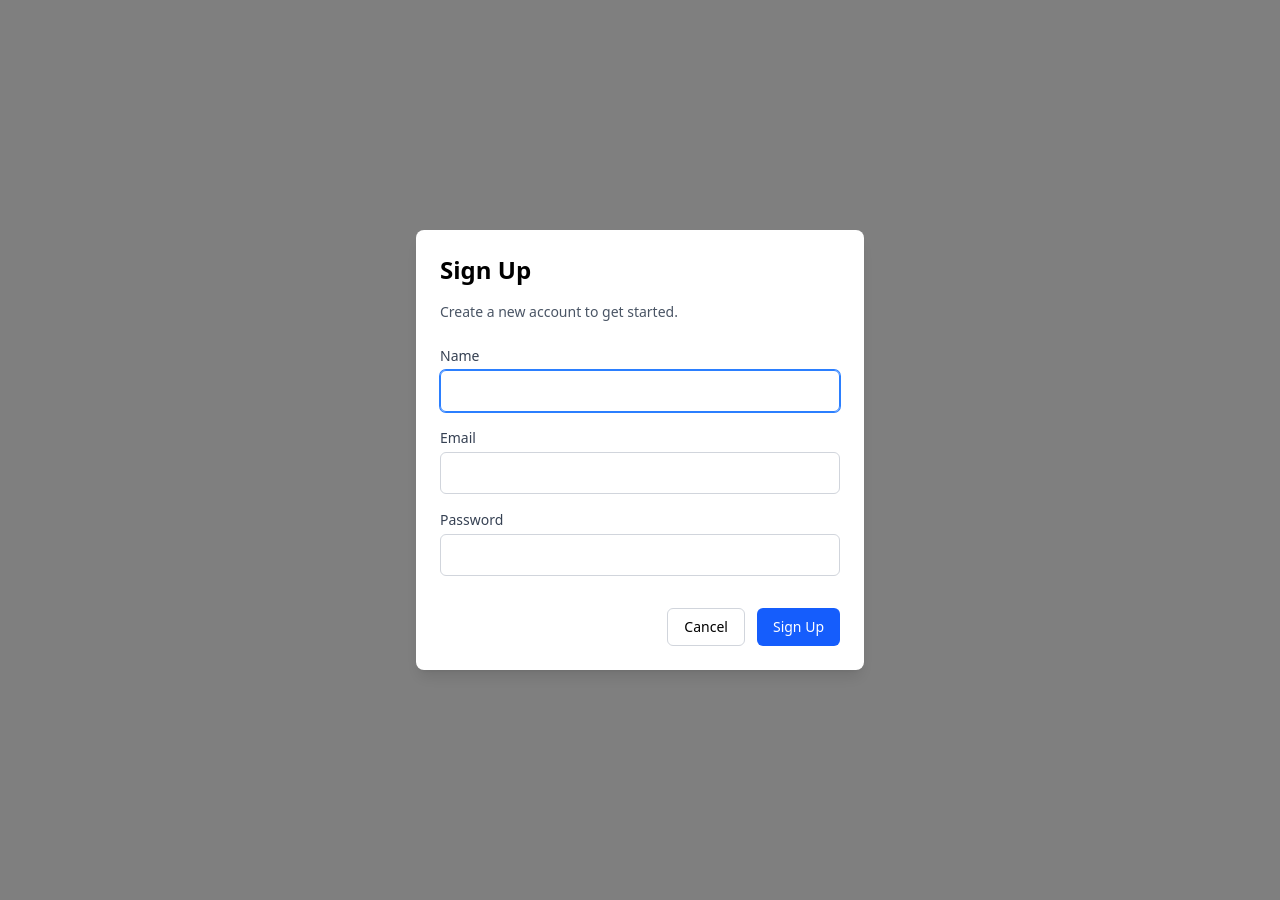
Test: SignupDialog › validates empty email
Type "John Doe" into the field labelled "Name" at (640, 391), box [440,370,840,412]
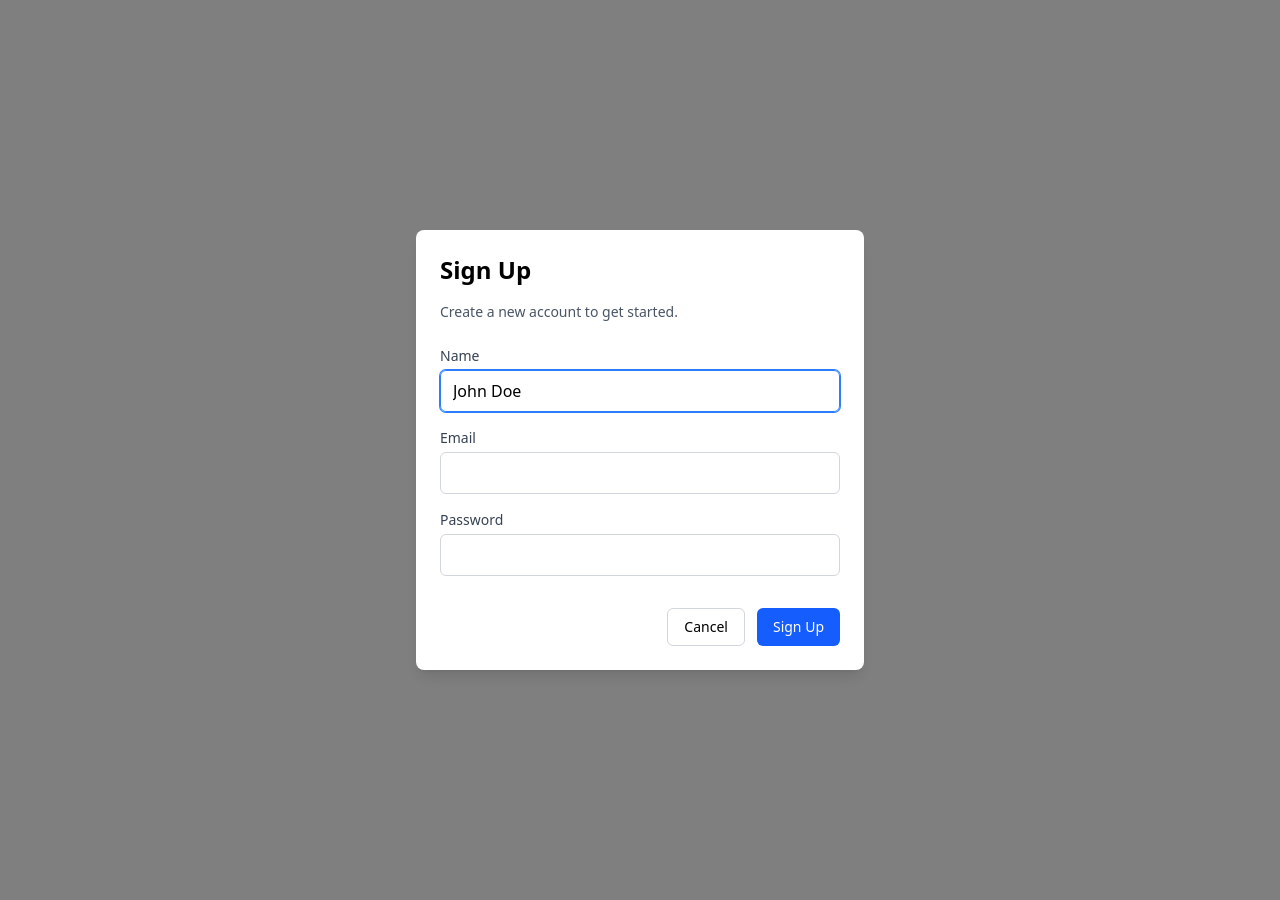
Click the button "Sign Up" at (798, 627), box [757,608,840,646]
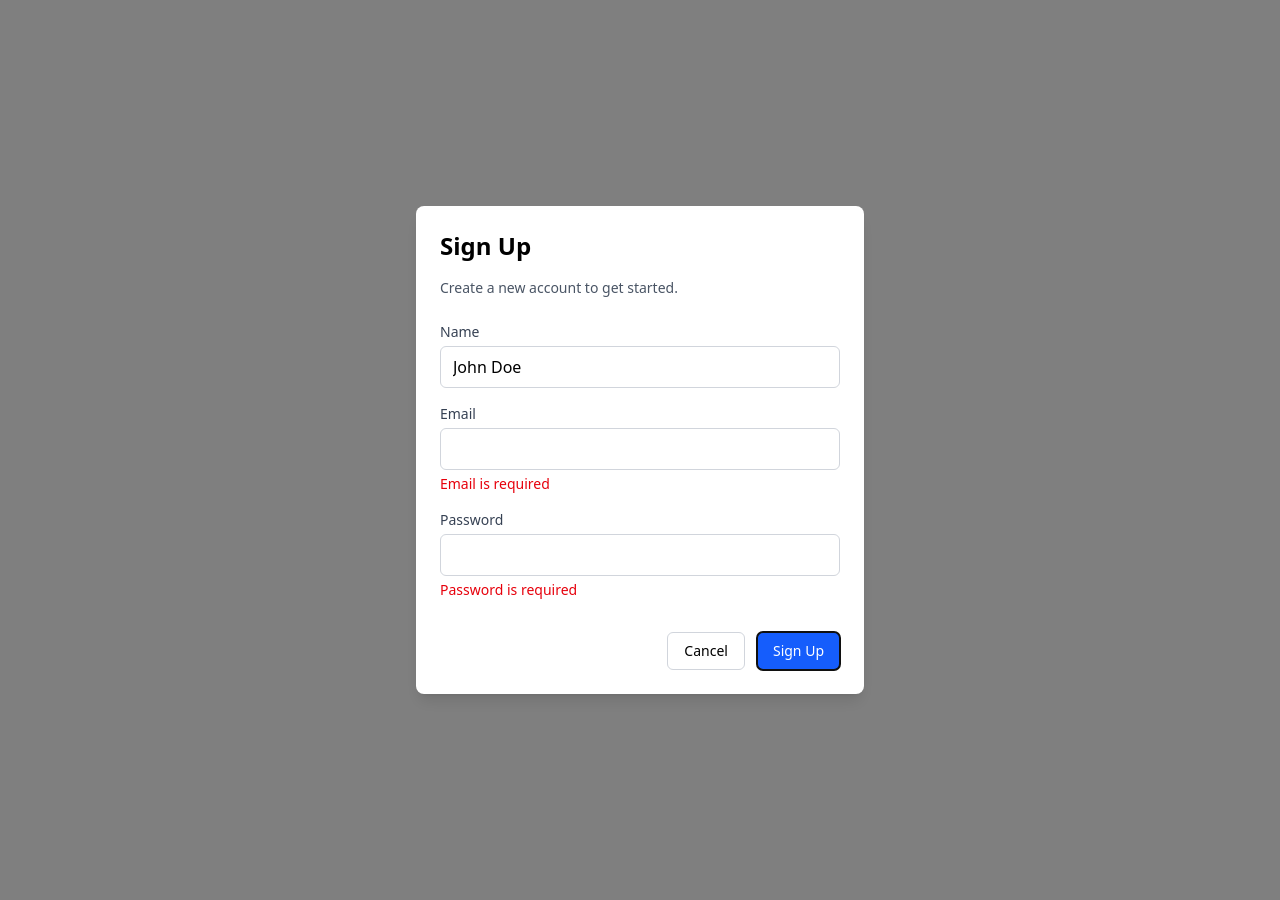
Expected: the text "Email is required" is shown, [440,474,550,493]
